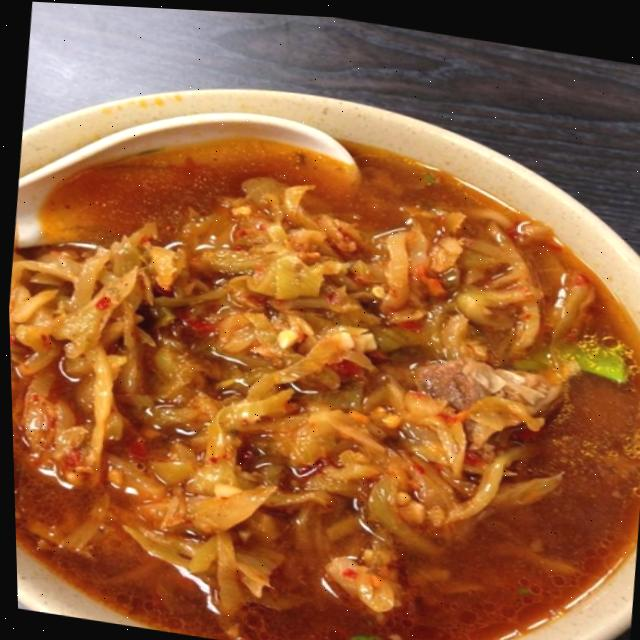面条主食: (1, 30, 640, 640)
